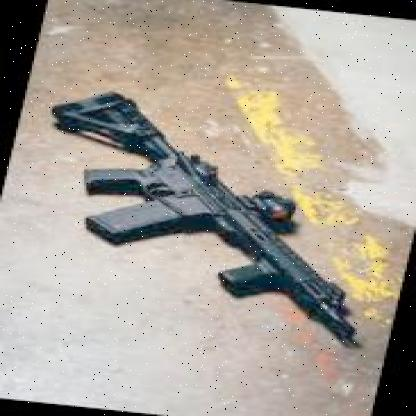rifle: (0, 80, 411, 343)
